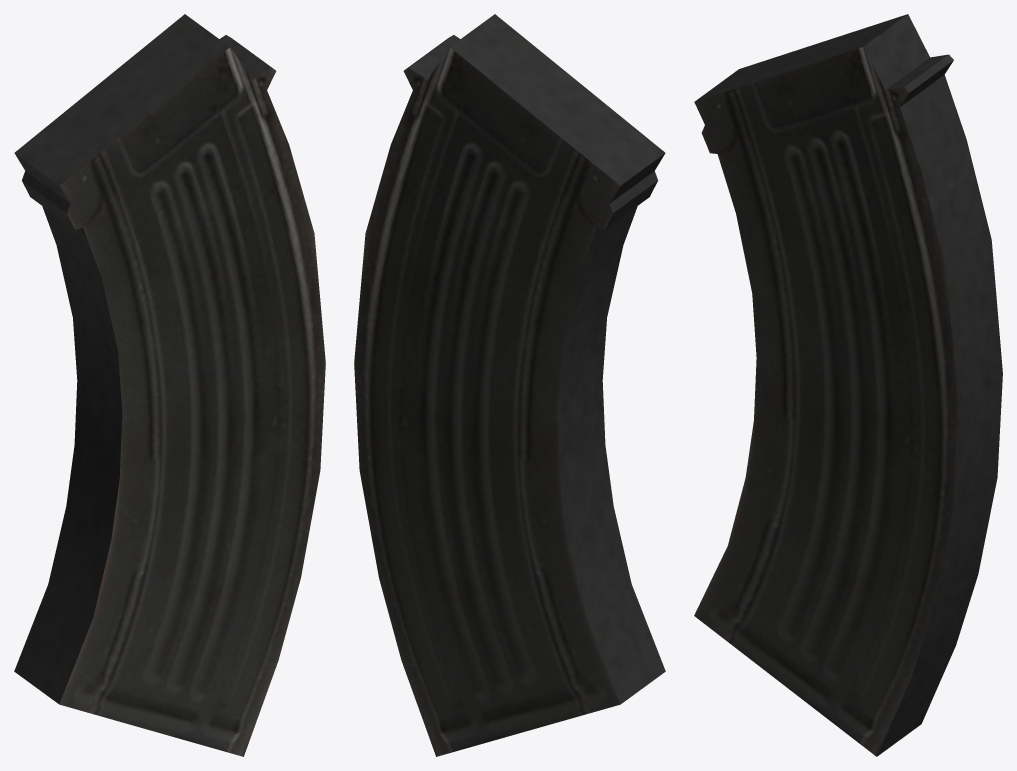
The model's file is clip_glow.fbx.
The picture shows the model from 3 angles, left to right: view 1: azimuth 30°, elevation 25°; view 2: azimuth 150°, elevation 25°; view 3: azimuth 330°, elevation 25°; orthographic projection.
Parts seen in each view (by area): view 1: polySurface1; view 2: polySurface1; view 3: polySurface1.
Part boxes in pixels (x1,y1,x2,y2): polySurface1: (14, 14, 325, 756); polySurface1: (354, 14, 665, 756); polySurface1: (694, 14, 1002, 756).
Size of the model in its own units: 8.68 by 22.2 by 2.55.
1 material, 1 textured.
